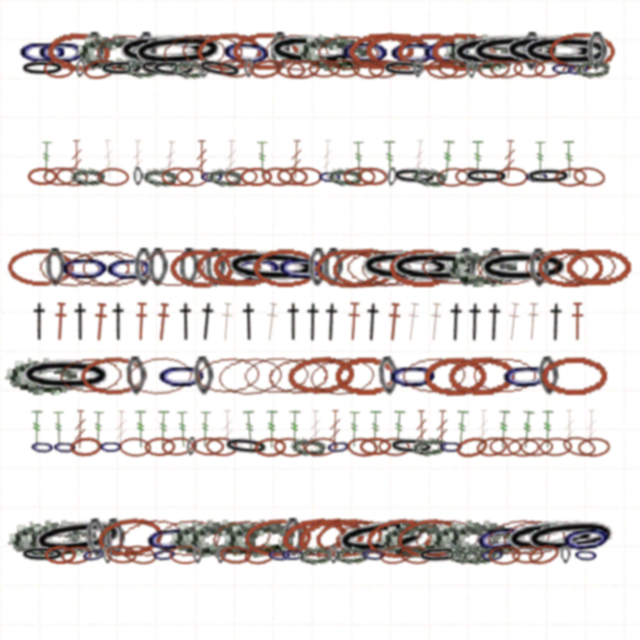chain: (331, 513, 433, 563), (28, 513, 129, 563), (501, 514, 601, 561), (521, 514, 621, 561), (128, 29, 228, 74), (264, 30, 363, 73), (222, 246, 321, 289), (447, 31, 546, 73), (356, 247, 455, 288), (467, 31, 565, 72), (500, 31, 598, 72), (518, 32, 616, 72), (387, 248, 485, 288), (475, 248, 573, 288), (17, 356, 115, 396), (114, 32, 212, 71), (114, 513, 187, 562), (221, 514, 297, 561), (23, 515, 98, 561), (377, 515, 452, 561), (184, 515, 259, 560), (95, 514, 166, 561), (295, 514, 366, 561), (279, 514, 349, 561), (7, 516, 81, 560), (428, 516, 502, 560), (331, 515, 401, 561), (364, 515, 434, 561), (169, 516, 243, 559), (484, 515, 554, 560), (215, 354, 286, 398), (307, 354, 378, 398), (412, 516, 483, 560), (314, 516, 384, 560), (396, 516, 466, 560), (208, 515, 276, 560), (160, 30, 229, 74), (500, 516, 569, 560), (331, 246, 401, 289), (36, 246, 104, 290), (125, 354, 194, 397), (194, 354, 263, 397), (286, 354, 355, 397), (262, 31, 332, 73), (154, 516, 222, 559), (344, 247, 413, 289), (243, 517, 312, 559), (265, 354, 332, 397), (444, 32, 516, 72), (446, 518, 518, 558), (75, 32, 147, 71), (296, 32, 368, 71), (445, 248, 517, 287), (5, 356, 77, 395), (195, 247, 263, 288), (57, 355, 125, 396), (242, 355, 310, 396), (447, 355, 515, 396), (471, 514, 530, 561), (179, 31, 246, 72), (347, 31, 414, 72), (364, 31, 431, 72), (430, 31, 497, 72), (359, 247, 426, 288), (551, 247, 618, 288), (400, 355, 467, 396), (315, 248, 383, 288), (80, 356, 148, 396), (46, 31, 112, 72), (314, 32, 381, 72), (396, 32, 463, 72), (64, 248, 131, 288), (548, 32, 616, 71), (7, 248, 75, 287), (139, 248, 207, 287), (94, 32, 160, 72), (196, 32, 262, 72), (80, 248, 146, 288), (169, 248, 235, 288), (212, 248, 278, 288), (419, 248, 485, 288), (388, 248, 455, 287), (475, 248, 542, 287), (540, 356, 607, 395), (423, 356, 488, 396), (232, 32, 298, 71), (252, 248, 318, 287), (523, 248, 589, 287), (537, 248, 603, 287), (565, 248, 631, 287), (471, 356, 537, 395), (334, 356, 399, 395), (142, 516, 199, 560), (558, 516, 615, 560), (219, 31, 275, 73), (274, 247, 330, 288), (338, 31, 393, 72), (499, 355, 554, 396), (230, 248, 285, 288), (387, 32, 441, 72), (103, 248, 157, 288), (16, 32, 70, 71), (35, 32, 89, 71), (420, 32, 474, 71), (58, 248, 112, 287), (155, 356, 209, 395), (386, 356, 440, 395), (195, 56, 244, 82), (137, 57, 185, 81), (222, 435, 270, 458), (391, 166, 438, 187), (388, 436, 435, 457), (526, 541, 562, 568), (103, 518, 127, 558), (150, 59, 197, 79), (381, 59, 428, 79), (416, 545, 463, 565), (192, 356, 215, 396), (377, 356, 400, 396), (537, 356, 560, 396), (85, 518, 108, 558), (454, 434, 489, 460), (561, 434, 597, 459), (378, 542, 414, 567), (19, 59, 66, 78), (98, 59, 145, 78), (463, 167, 510, 186), (525, 167, 572, 186), (19, 545, 66, 564), (528, 248, 550, 288), (125, 356, 147, 396), (410, 435, 447, 458), (82, 57, 117, 81), (123, 543, 158, 567), (45, 248, 66, 287), (205, 248, 226, 287), (484, 248, 505, 287), (283, 518, 304, 557), (249, 57, 283, 81), (411, 166, 447, 188), (297, 544, 333, 566), (460, 544, 496, 566), (273, 57, 307, 80), (533, 57, 567, 80), (572, 165, 606, 188), (475, 435, 509, 458), (243, 543, 277, 566), (84, 32, 104, 71), (136, 32, 156, 71), (270, 32, 290, 71), (522, 32, 542, 71), (587, 32, 607, 71), (134, 248, 154, 287), (148, 248, 168, 287), (179, 248, 199, 287), (308, 248, 328, 287), (323, 248, 343, 287), (456, 248, 476, 287), (436, 58, 471, 80), (124, 58, 160, 79), (574, 58, 610, 79), (290, 436, 326, 457), (333, 544, 369, 565), (447, 544, 483, 565), (286, 58, 320, 80), (55, 166, 89, 188), (304, 436, 338, 458), (273, 436, 306, 458), (346, 436, 379, 458), (60, 544, 93, 566), (399, 544, 432, 566), (327, 58, 361, 79), (477, 58, 511, 79), (161, 436, 195, 457), (171, 59, 206, 79), (142, 167, 177, 187), (207, 167, 242, 187), (218, 58, 251, 79), (261, 166, 294, 187), (276, 166, 309, 187), (69, 436, 102, 457), (205, 436, 238, 457), (105, 544, 138, 565), (511, 544, 544, 565), (436, 167, 470, 187), (454, 167, 488, 187), (577, 437, 611, 457), (357, 166, 389, 187), (564, 57, 593, 80), (70, 167, 105, 186), (327, 167, 362, 186), (490, 59, 523, 79), (554, 167, 587, 187), (507, 437, 540, 457), (520, 437, 553, 457), (539, 437, 572, 457), (488, 545, 521, 565), (80, 543, 108, 566), (352, 59, 384, 79), (368, 59, 400, 79), (426, 59, 458, 79), (97, 167, 129, 187), (176, 167, 208, 187), (119, 437, 151, 457), (254, 437, 286, 457), (378, 437, 410, 457), (219, 545, 251, 565), (308, 59, 341, 78), (43, 167, 76, 186), (161, 167, 194, 186), (225, 167, 258, 186), (343, 167, 376, 186), (489, 437, 522, 456), (169, 545, 202, 564), (43, 59, 75, 78), (513, 59, 545, 78), (240, 167, 272, 186), (290, 167, 322, 186), (496, 167, 528, 186), (144, 437, 176, 456), (192, 437, 224, 456), (359, 437, 391, 456), (44, 545, 76, 564), (27, 167, 58, 186), (325, 436, 352, 457), (151, 544, 178, 565), (360, 544, 387, 565), (29, 437, 56, 457), (266, 545, 293, 565), (479, 545, 506, 565), (52, 437, 78, 457), (573, 545, 599, 565), (550, 59, 576, 78), (199, 167, 225, 186), (317, 167, 343, 186), (524, 167, 550, 186), (98, 437, 124, 456), (438, 437, 464, 456), (280, 545, 306, 564), (199, 59, 211, 79), (465, 59, 477, 79), (386, 167, 398, 187), (75, 59, 86, 78), (186, 437, 197, 456), (102, 545, 113, 564), (192, 545, 203, 564), (328, 545, 339, 564), (560, 545, 571, 564), (244, 59, 254, 78), (413, 59, 423, 78), (133, 167, 143, 186), (216, 545, 226, 564)
half_double: (194, 301, 220, 342), (319, 302, 344, 342), (360, 302, 385, 342), (482, 302, 507, 342), (301, 302, 325, 342), (444, 302, 468, 342), (463, 302, 487, 342), (544, 302, 568, 342), (28, 302, 51, 341), (69, 302, 92, 341), (107, 302, 130, 341), (282, 302, 305, 341), (175, 302, 197, 341), (238, 302, 260, 341), (262, 302, 281, 342), (403, 302, 422, 342), (504, 302, 523, 342), (91, 302, 109, 342), (385, 302, 403, 342), (426, 302, 444, 342), (154, 302, 171, 342), (218, 302, 235, 342), (52, 302, 69, 341), (345, 302, 362, 341), (524, 302, 541, 341), (133, 302, 149, 341), (570, 302, 585, 341)
treble: (162, 140, 178, 180), (519, 410, 535, 450), (411, 140, 427, 179), (242, 410, 258, 449), (391, 410, 407, 449), (454, 410, 470, 449), (101, 140, 116, 179), (440, 140, 455, 179), (502, 140, 517, 179), (562, 140, 577, 179), (156, 410, 171, 449), (368, 410, 383, 449), (496, 410, 511, 449), (224, 140, 238, 179), (289, 140, 303, 179), (320, 140, 334, 179), (352, 140, 366, 179), (383, 140, 397, 179), (471, 140, 485, 179), (52, 410, 66, 449), (73, 410, 87, 449), (114, 410, 128, 449), (176, 410, 190, 449), (328, 410, 342, 449), (435, 410, 449, 449), (476, 410, 490, 449), (584, 410, 598, 449), (40, 140, 53, 179), (70, 140, 83, 179), (131, 140, 144, 179), (195, 140, 208, 179), (256, 140, 269, 179), (534, 140, 547, 179), (30, 410, 43, 449), (92, 410, 105, 449), (134, 410, 147, 449), (199, 410, 212, 449), (221, 410, 234, 449), (265, 410, 278, 449), (288, 410, 301, 449), (309, 410, 322, 449), (348, 410, 361, 449), (415, 410, 428, 449), (541, 410, 554, 449), (563, 410, 576, 449)
